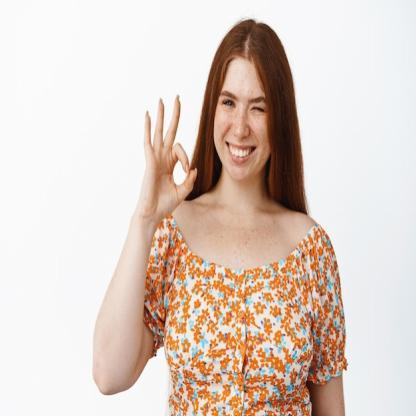ok: (139, 90, 198, 222)
